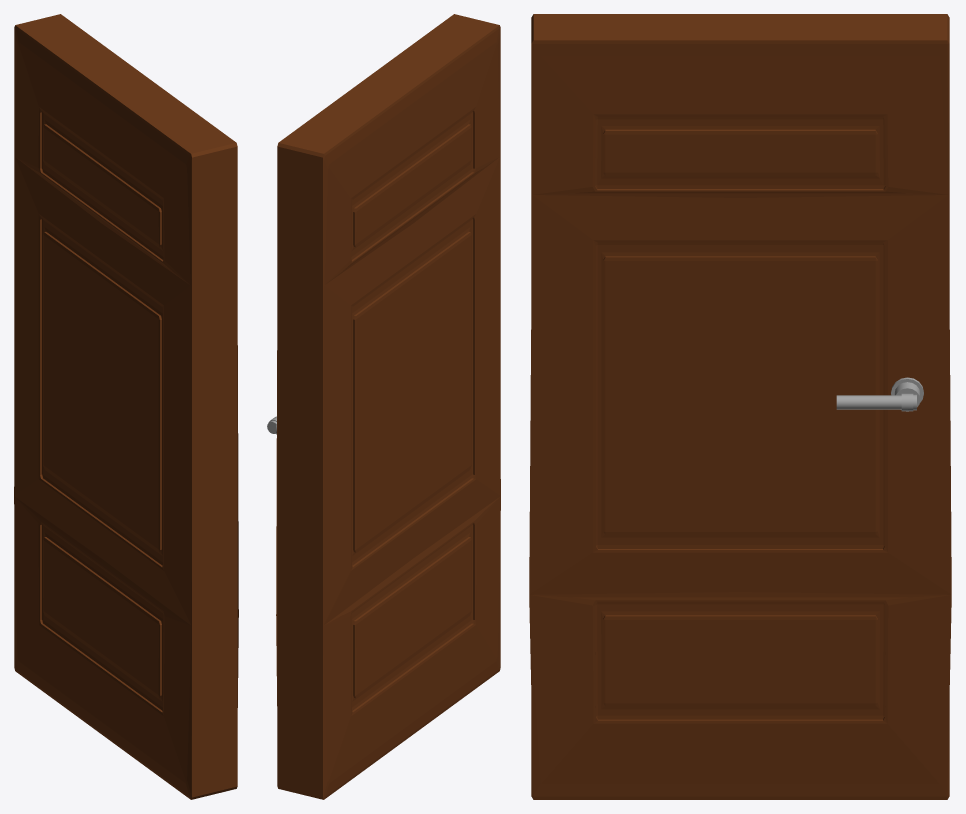
File: CrapDoor.fbx
The picture shows the model from 3 angles, left to right: view 1: azimuth 30°, elevation 25°; view 2: azimuth 150°, elevation 25°; view 3: azimuth 270°, elevation 25°; orthographic projection. The views are drawn at different scales.
Parts seen in each view (by area): view 1: Cube.032; view 2: Cube.032; view 3: Cube.032.
Boxes of the visible parts, left/top/right/bottom form: Cube.032: left=14, top=14, right=238, bottom=799; Cube.032: left=267, top=14, right=500, bottom=799; Cube.032: left=529, top=14, right=951, bottom=799.
Bounding box in the file's own units: 22.78 × 195 × 98.15.
